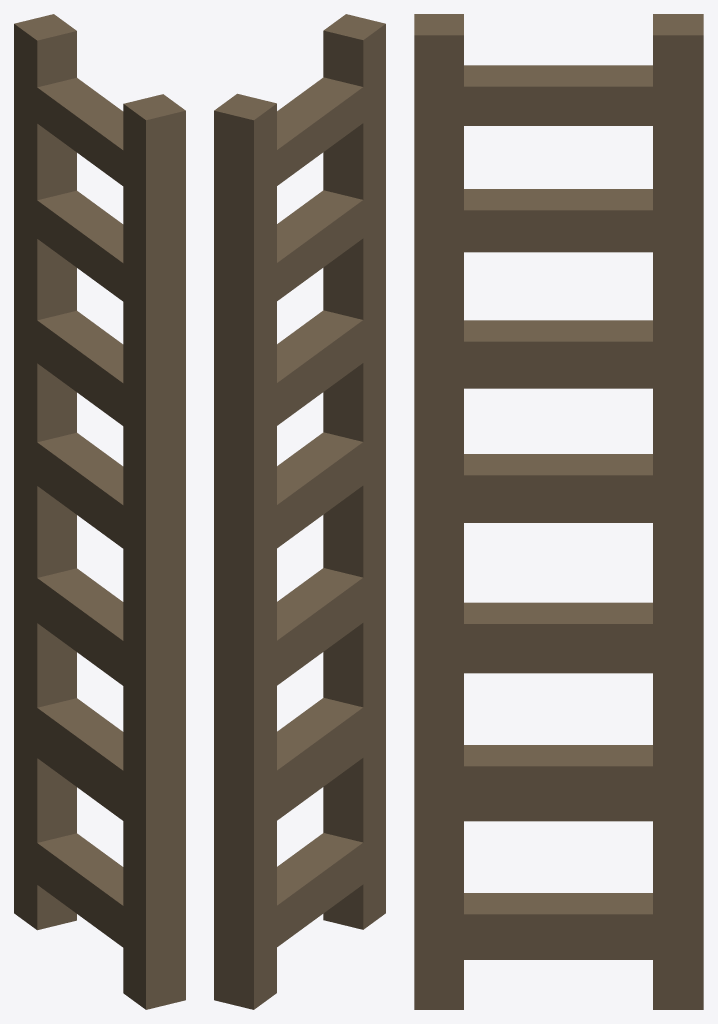
File: Ladder06.fbx
3 views of the same model, side by side, from view 1: azimuth 30°, elevation 25°; view 2: azimuth 150°, elevation 25°; view 3: azimuth 270°, elevation 25° (orthographic). The views are drawn at different scales.
Visible parts, largest first — view 1: Ladder06; view 2: Ladder06; view 3: Ladder06.
Part boxes in pixels (<box>): Ladder06: <box>14,14,185,1009</box>; Ladder06: <box>214,14,385,1009</box>; Ladder06: <box>414,14,703,1009</box>.
Bounding box in the file's own units: 20.83 × 445 × 120.
